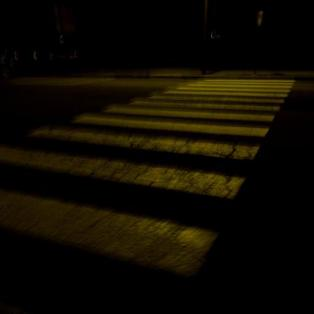Paso de Cebra: (7, 115, 289, 164)
